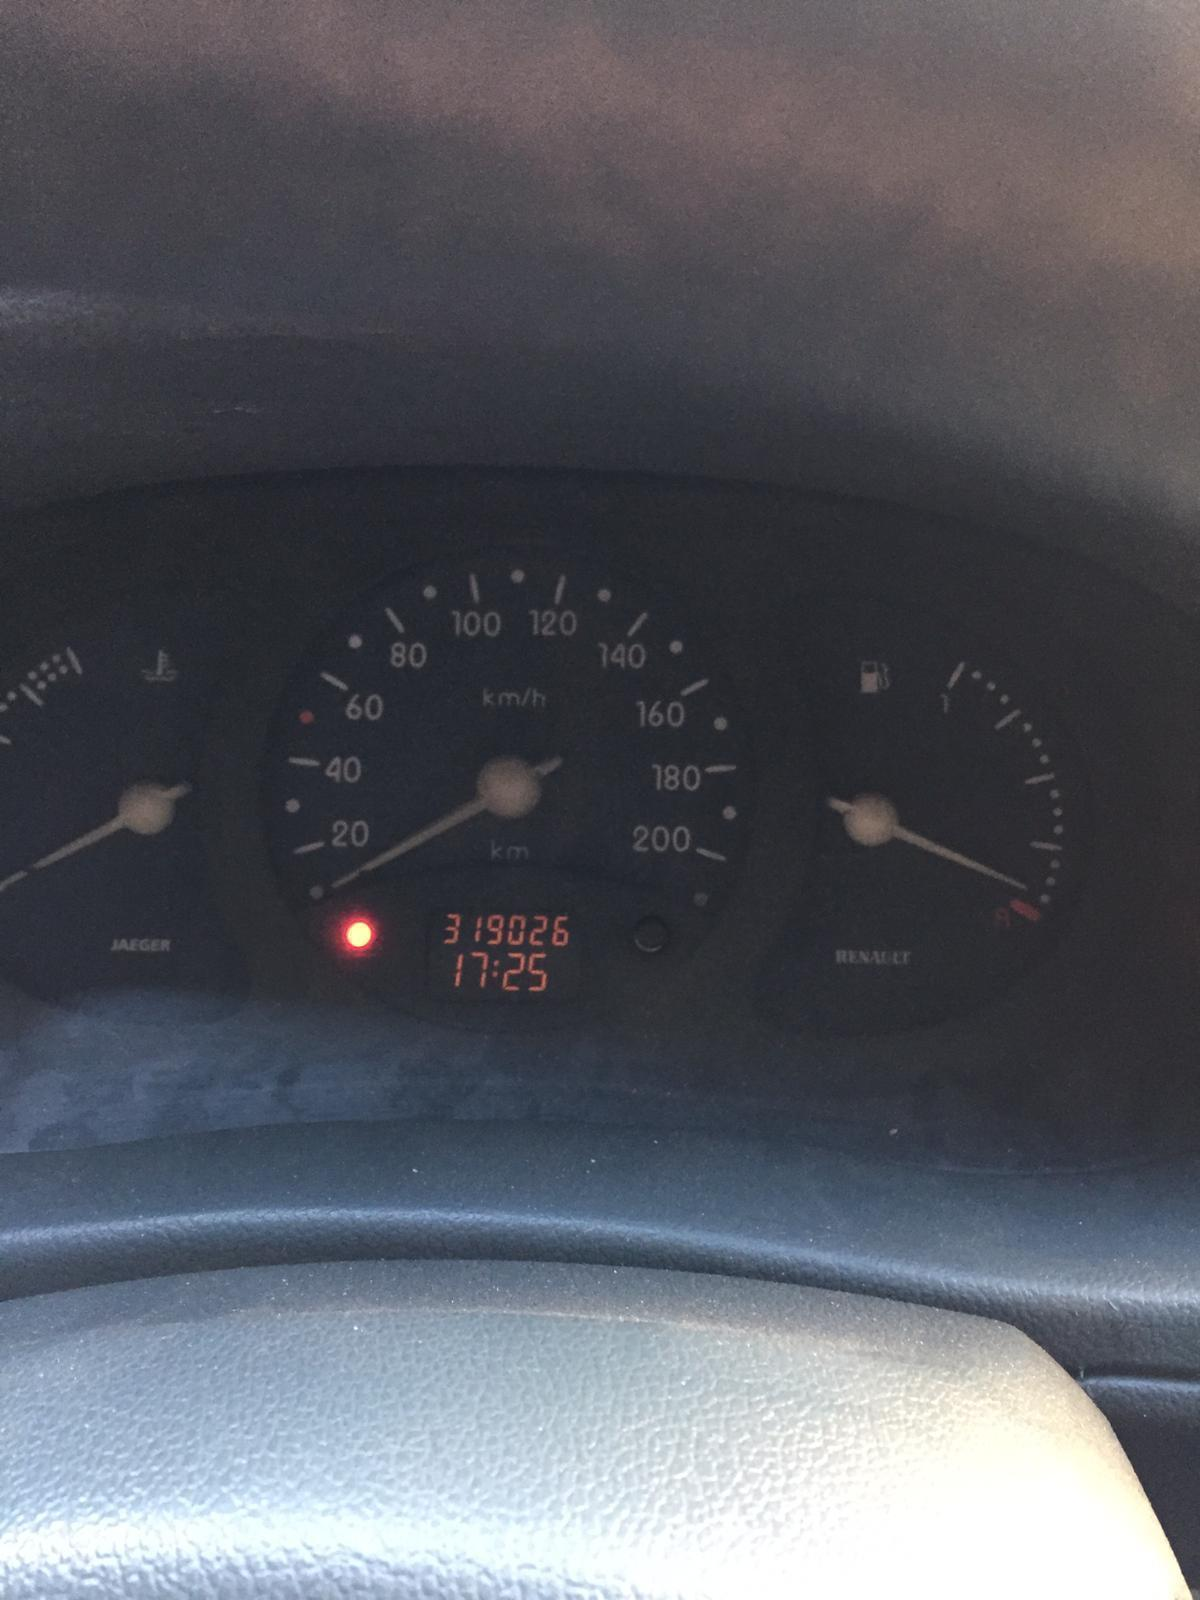0: (505, 913, 526, 945)
1: (453, 952, 464, 986), (473, 916, 483, 944)
2: (500, 951, 524, 991), (528, 913, 548, 945)
3: (442, 913, 461, 944)
5: (526, 952, 547, 991)
6: (551, 915, 570, 946)
7: (469, 951, 488, 988)
9: (485, 913, 504, 945)
X: (492, 959, 500, 978)
odometer: (420, 901, 587, 1009)
